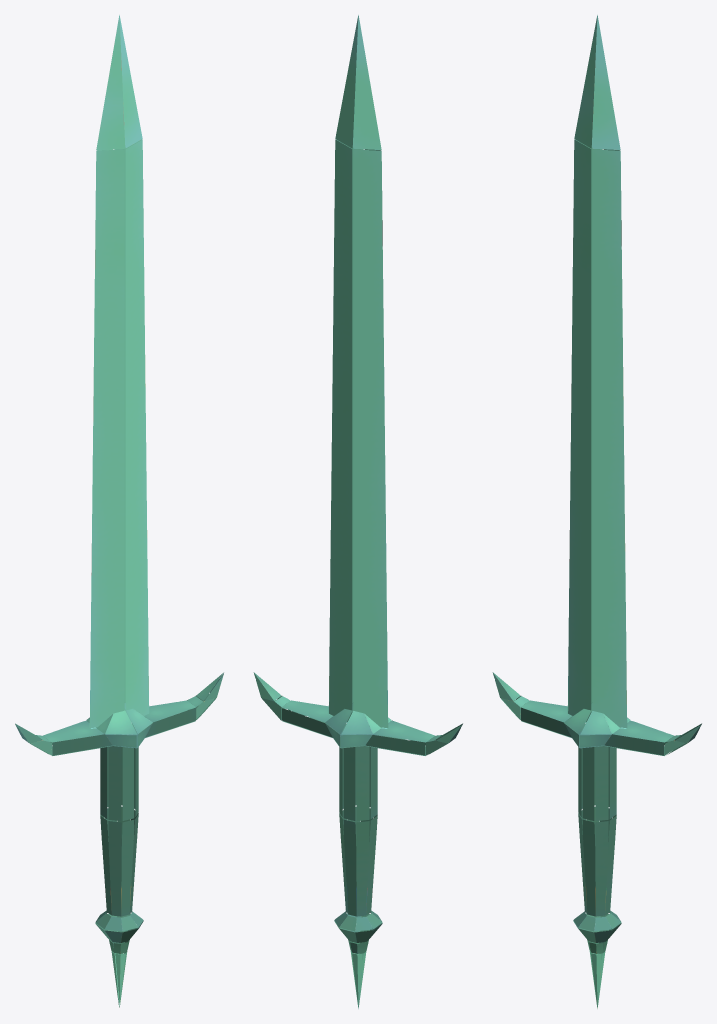
File: skeletonlongsword.fbx
3 renders of one model, left to right at view 1: azimuth 30°, elevation 25°; view 2: azimuth 150°, elevation 25°; view 3: azimuth 330°, elevation 25°, orthographic.
Parts seen in each view (by area): view 1: cylinder_1, cylinder, cuboid; view 2: cylinder_1, cylinder, cuboid; view 3: cylinder_1, cylinder, cuboid.
Part boxes in pixels (box(x1,y1,x2,y2)): cylinder_1: box(89, 15, 149, 728); cylinder: box(95, 732, 143, 1007); cuboid: box(15, 672, 223, 755); cylinder_1: box(328, 15, 388, 728); cylinder: box(334, 731, 382, 1008); cuboid: box(253, 672, 462, 755); cylinder_1: box(567, 15, 627, 728); cylinder: box(573, 731, 621, 1008); cuboid: box(492, 672, 701, 755).
Size of the model in its own units: 200 by 906 by 59.38.
1 material, 1 textured.
